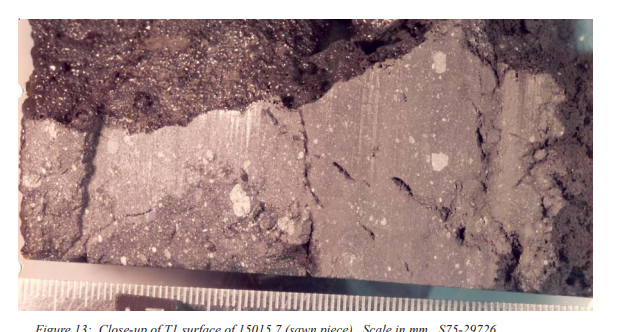Breccia: (19, 16, 587, 284), (60, 26, 394, 226), (155, 89, 494, 247)
